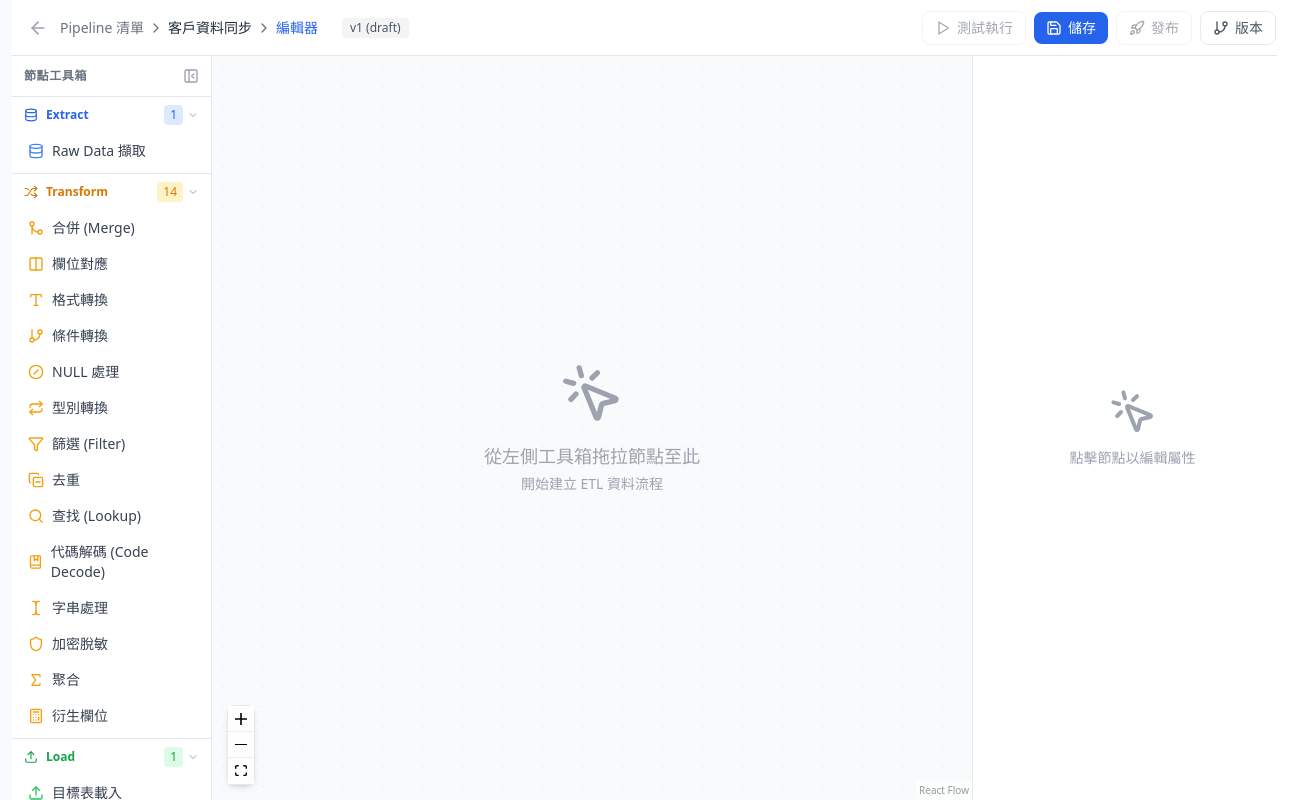
Test: PipelineEditorPage - Toolbox interactions › should hide toolbox when collapse button clicked
Expected: the element with test id "toolbox" is shown, left=12, top=56, right=212, bottom=799
Click the button with test id "toolbox-collapse-btn" at [191, 76], box left=183, top=68, right=199, bottom=84
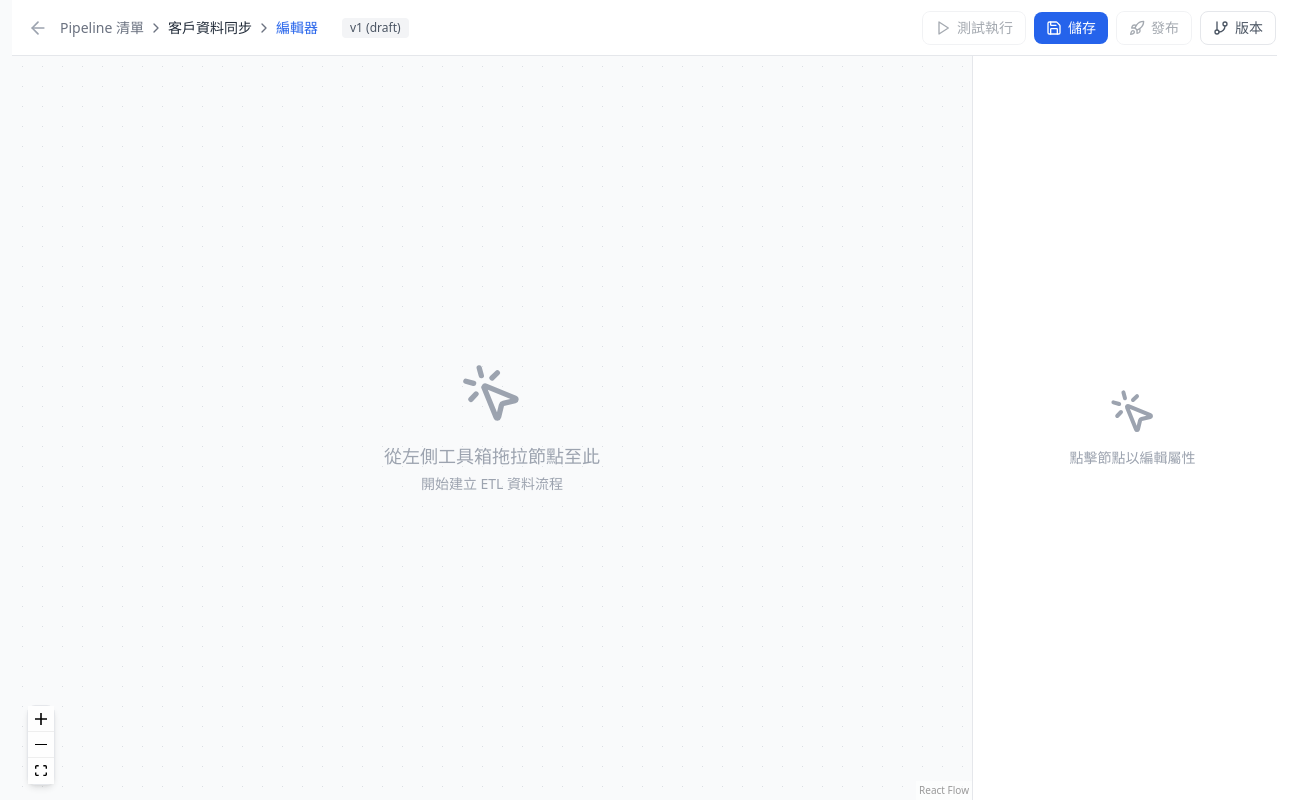
Expected: the element with test id "toolbox" is gone
